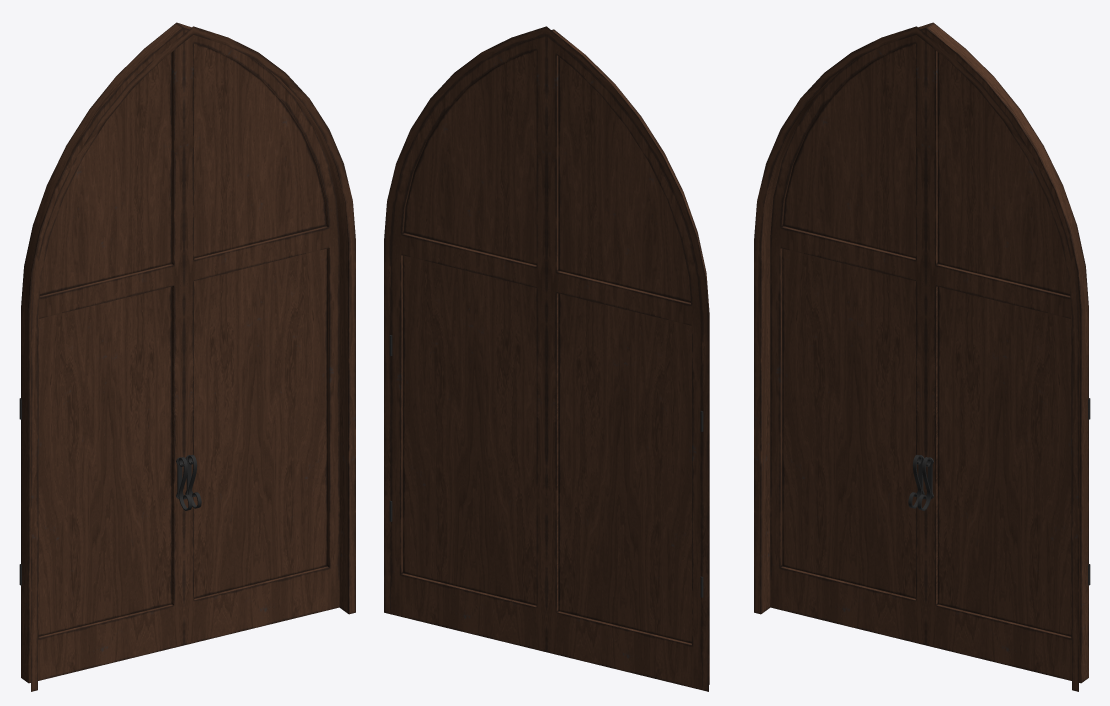
Rendered from Door_F_Frame.fbx.
3 views of the same model, side by side, from view 1: azimuth 30°, elevation 25°; view 2: azimuth 150°, elevation 25°; view 3: azimuth 330°, elevation 25° (orthographic).
Visible parts, largest first — view 1: Door_F_B, Door_F_A, Door_F_Frame; view 2: Door_F_B, Door_F_A, Door_F_Frame; view 3: Door_F_A, Door_F_B, Door_F_Frame.
Boxes of the visible parts, <box> form: Door_F_B: <box>19,22,192,683</box>; Door_F_A: <box>177,22,339,645</box>; Door_F_Frame: <box>31,26,355,691</box>; Door_F_B: <box>546,29,709,689</box>; Door_F_A: <box>389,29,553,652</box>; Door_F_Frame: <box>384,26,708,691</box>; Door_F_A: <box>917,22,1090,683</box>; Door_F_B: <box>770,22,932,645</box>; Door_F_Frame: <box>754,26,1078,691</box>.
Size of the model in its own units: 2.15 by 0.2242 by 3.96.
